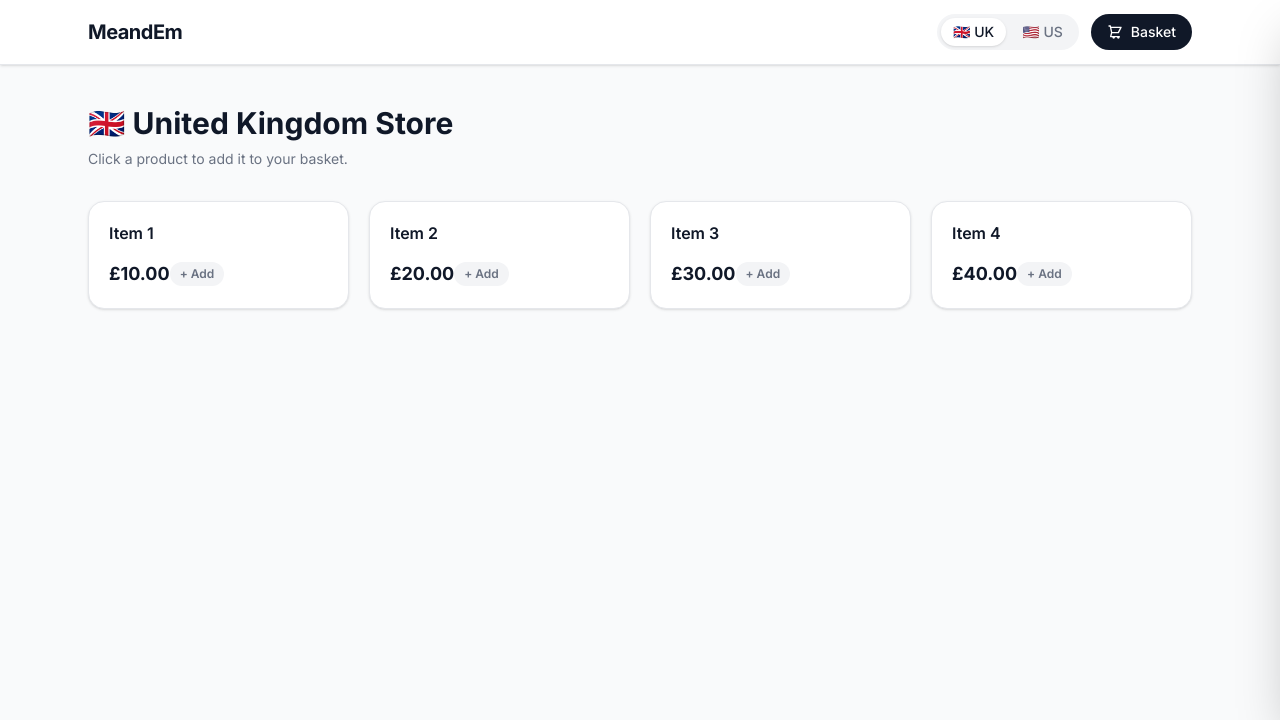
Test case: Home › adds item to basket and updates count badge
Click the button "Item 1 £10.00 + Add".
click(131, 233)  # box [88, 201, 349, 309]
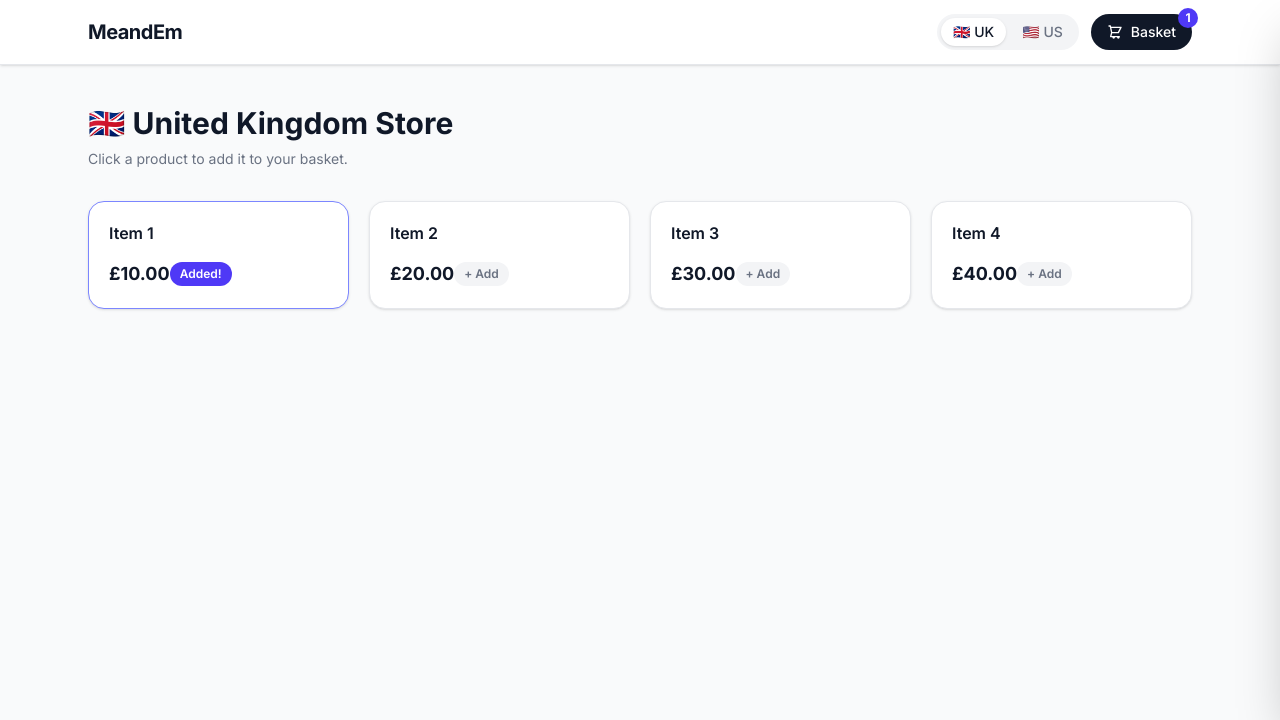
Check: the button with aria-label "open basket, 1 item" is shown, box [1091, 14, 1192, 50]
